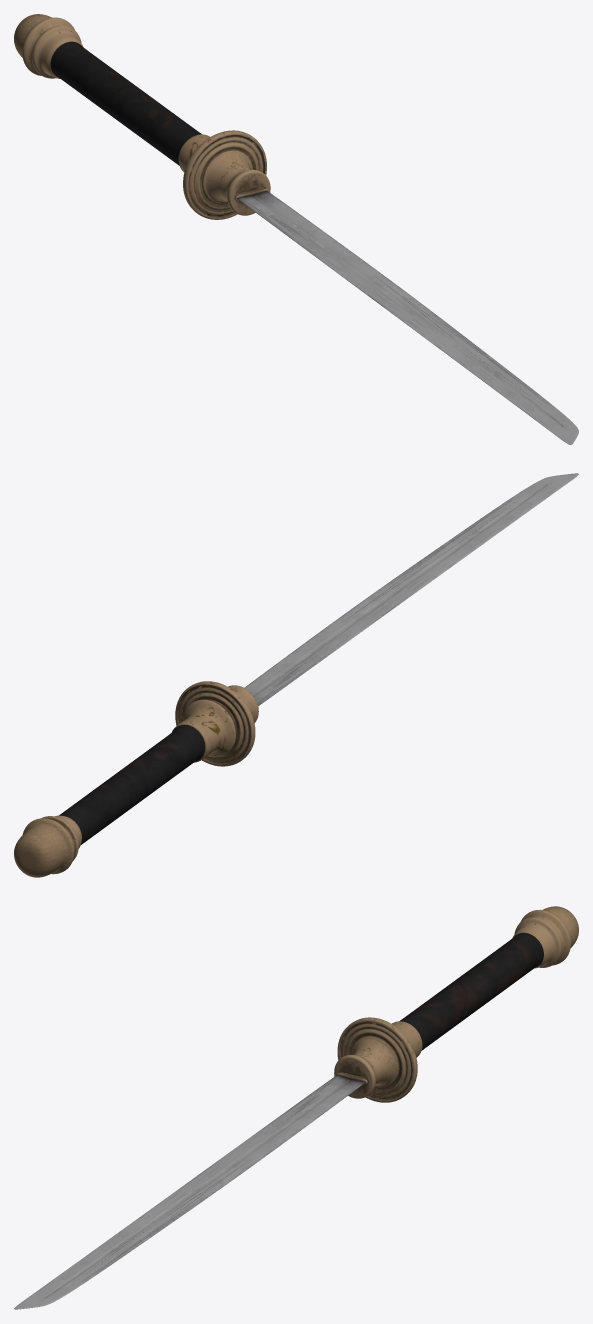
Rendered from katana.glb.
3 renders of one model, top to bottom at view 1: azimuth 30°, elevation 25°; view 2: azimuth 150°, elevation 25°; view 3: azimuth 330°, elevation 25°, orthographic. The views are drawn at different scales.
Parts seen in each view (by area): view 1: Katana_Sword_0, Katana_Gold_0, Katana_Handle_0; view 2: Katana_Sword_0, Katana_Gold_0, Katana_Handle_0; view 3: Katana_Sword_0, Katana_Gold_0, Katana_Handle_0.
Part boxes in pixels (left/top/right/bottom): Katana_Sword_0: left=237, top=191, right=578, bottom=444; Katana_Gold_0: left=14, top=14, right=270, bottom=219; Katana_Handle_0: left=50, top=41, right=201, bottom=165; Katana_Sword_0: left=244, top=473, right=578, bottom=705; Katana_Gold_0: left=14, top=681, right=258, bottom=877; Katana_Handle_0: left=59, top=724, right=205, bottom=844; Katana_Sword_0: left=14, top=1075, right=365, bottom=1309; Katana_Gold_0: left=334, top=906, right=578, bottom=1102; Katana_Handle_0: left=399, top=932, right=543, bottom=1050.
Size of the model in its own units: 0.0849 by 0.0849 by 1.
Materials: 3 (3 with a texture image).
